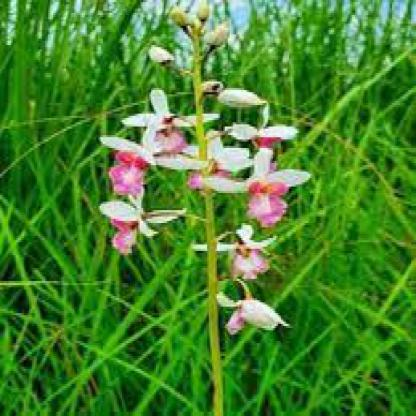ANGGREK: (114, 25, 339, 361)
